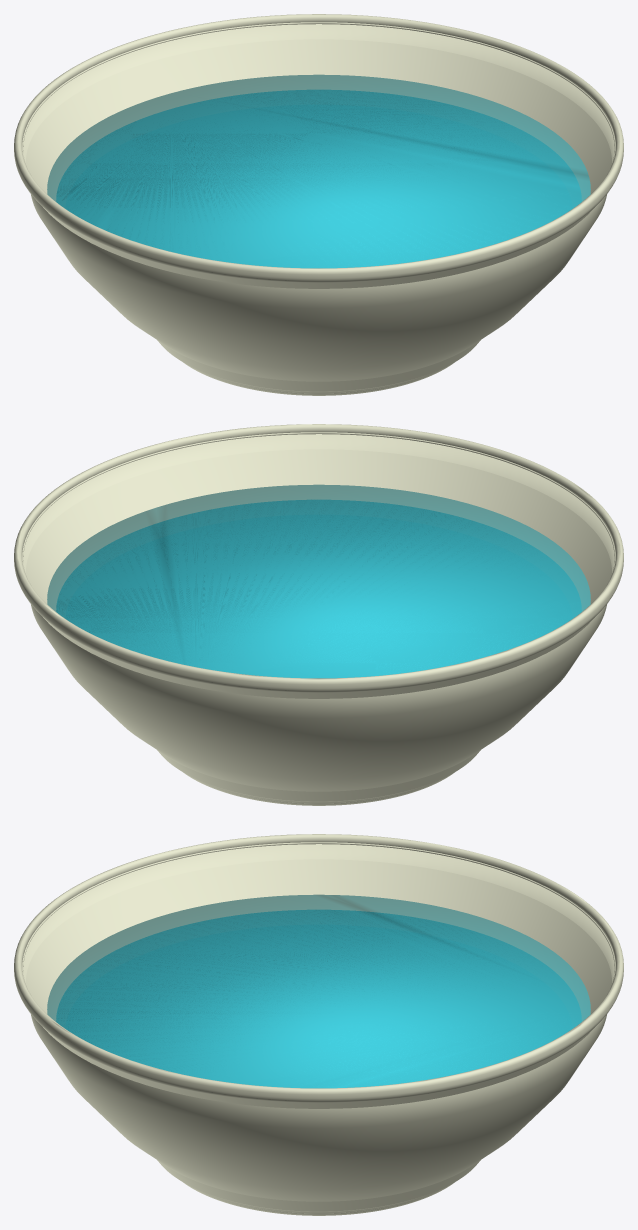
File: bowl.fbx
3 views of the same model, one above another, from view 1: azimuth 30°, elevation 25°; view 2: azimuth 150°, elevation 25°; view 3: azimuth 270°, elevation 25° (orthographic).
Parts seen in each view (by area): view 1: Bowl, Water.001, Water.002; view 2: Bowl, Water.001, Water.002; view 3: Bowl, Water.001, Water.002.
Boxes of the visible parts, bbox=[...] form: Bowl: bbox=[14, 14, 623, 395]; Water.001: bbox=[47, 74, 590, 268]; Water.002: bbox=[57, 90, 580, 267]; Bowl: bbox=[14, 424, 623, 805]; Water.001: bbox=[47, 484, 590, 678]; Water.002: bbox=[57, 504, 579, 677]; Bowl: bbox=[14, 834, 623, 1215]; Water.001: bbox=[47, 894, 590, 1088]; Water.002: bbox=[58, 910, 576, 1087].
Size of the model in its own units: 251 by 85.39 by 251.
